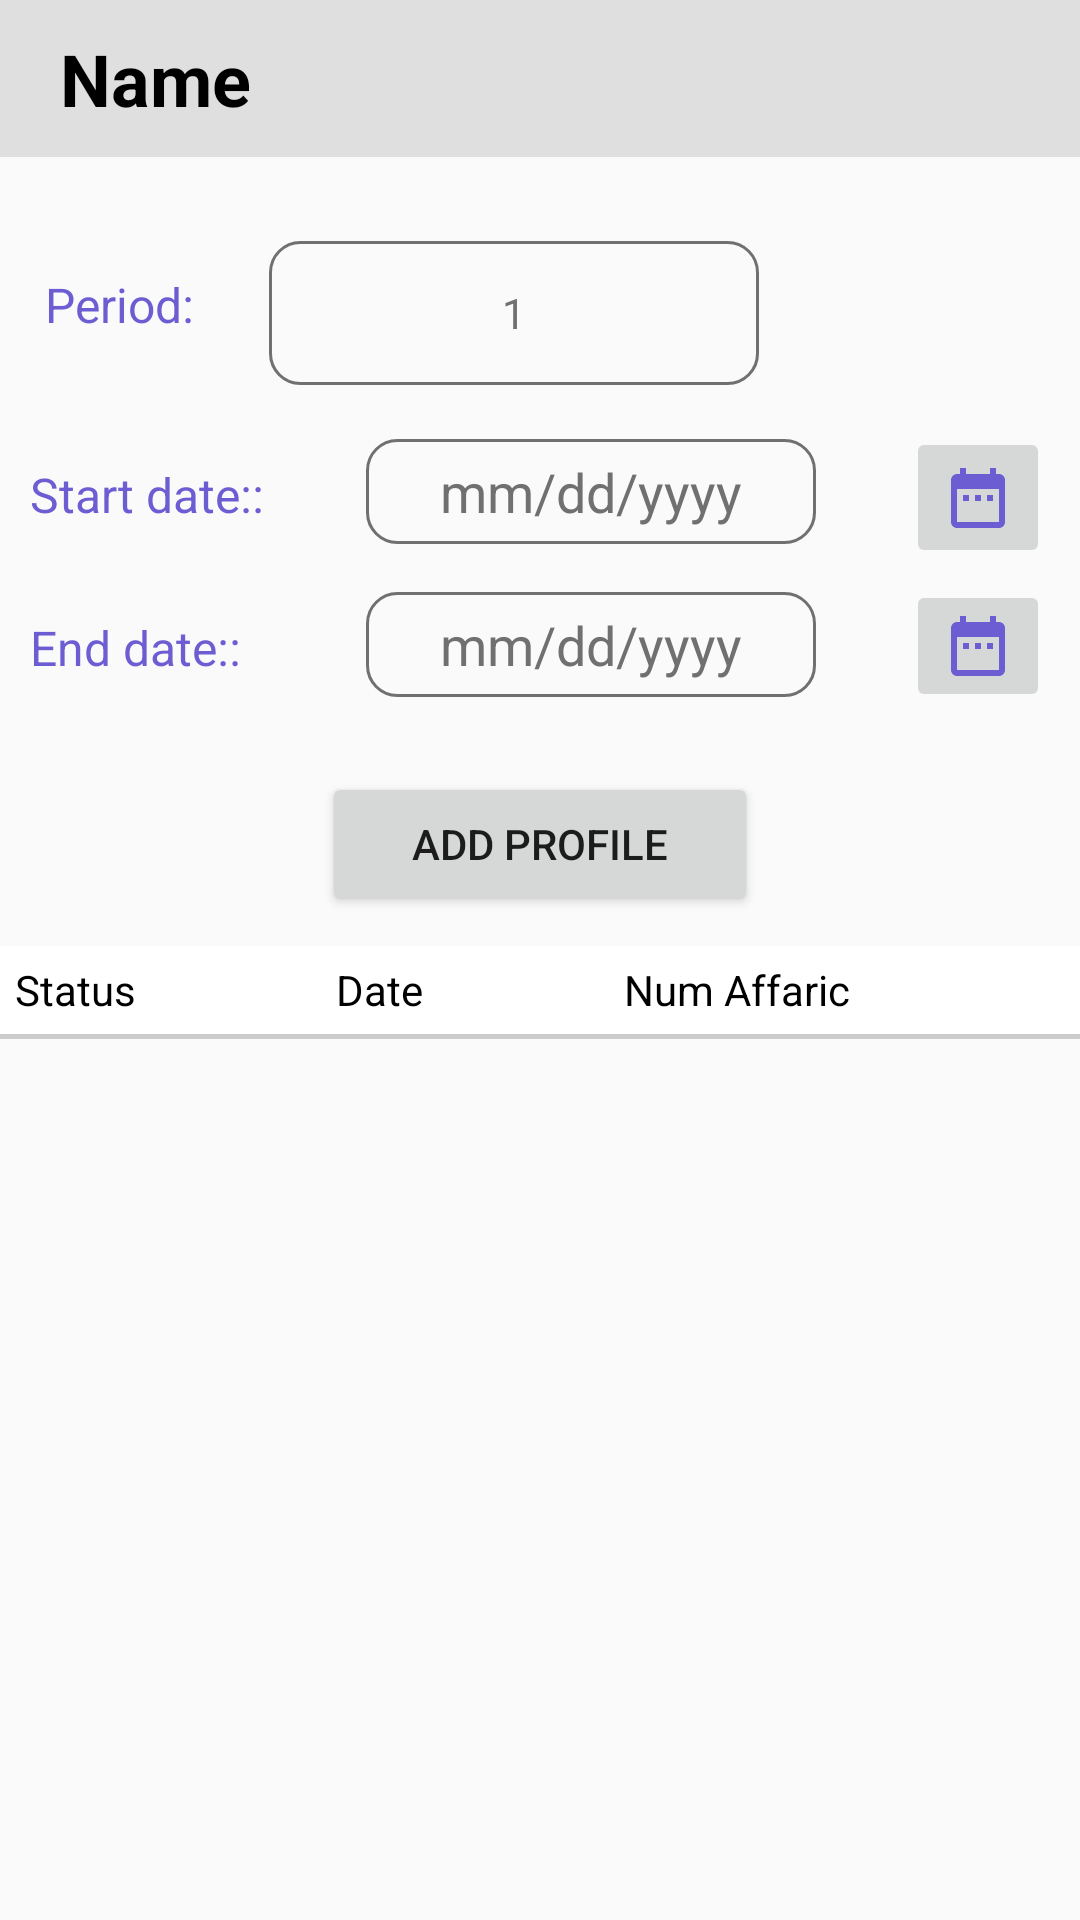

Named icons in this screenshot (1080 x 1920) and their bounding boxes, (x1, y1, x2, y2):
date: (918, 445, 1038, 550), (918, 598, 1038, 694)
